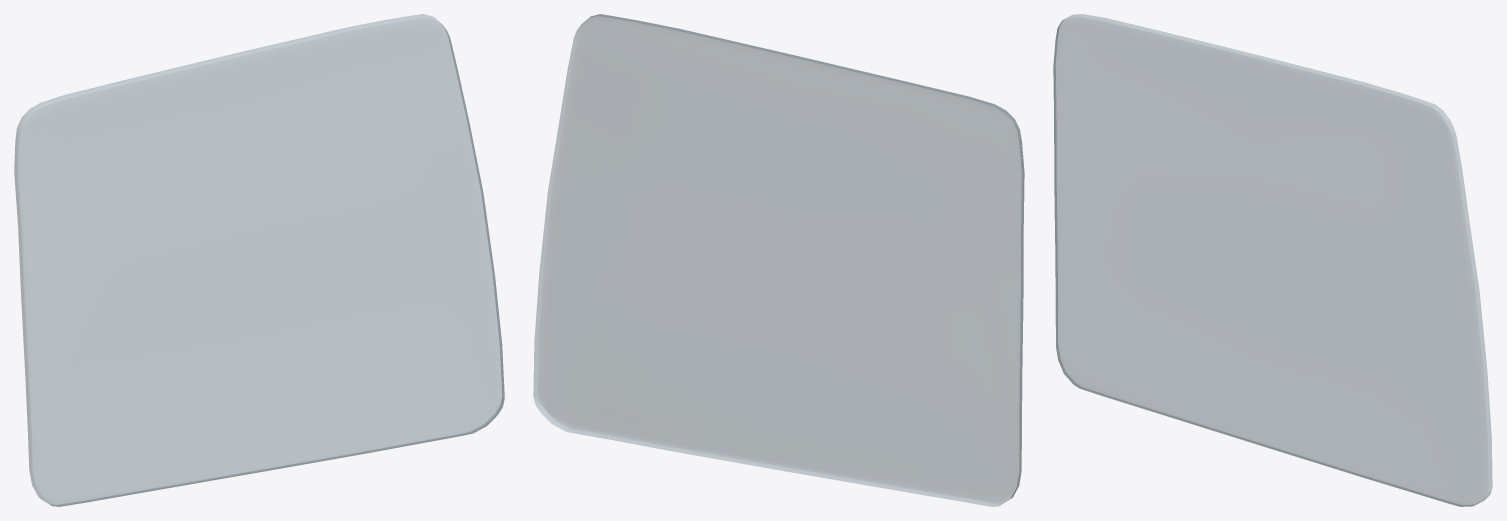
3 renders of one model, left to right at view 1: azimuth 30°, elevation 25°; view 2: azimuth 150°, elevation 25°; view 3: azimuth 330°, elevation 25°, orthographic. The views are drawn at different scales.
Parts seen in each view (by area): view 1: SM_EuropeanHGV_Door_FR_Glass_Ext1; view 2: SM_EuropeanHGV_Door_FR_Glass_Ext1; view 3: SM_EuropeanHGV_Door_FR_Glass_Ext1.
Boxes of the visible parts, box(x1,y1,x2,y2) form: SM_EuropeanHGV_Door_FR_Glass_Ext1: box(14, 14, 504, 506); SM_EuropeanHGV_Door_FR_Glass_Ext1: box(533, 14, 1024, 506); SM_EuropeanHGV_Door_FR_Glass_Ext1: box(1053, 14, 1492, 506).
Size of the model in its own units: 0.9689 by 0.8218 by 0.0447.
